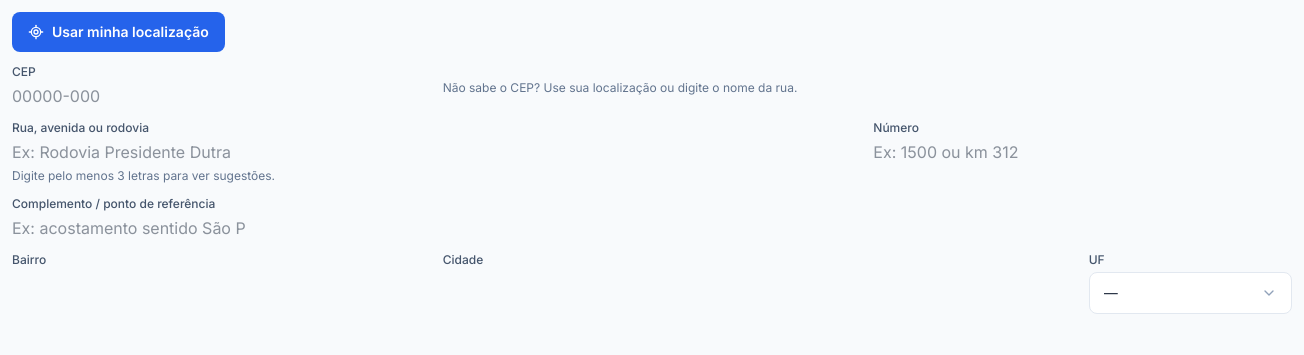
campo de localização › guarda as coordenadas quando não consegue identificar a rua
This screenshot has width=1304, height=355.
Click the button "Usar minha localização" at (118, 32), box [12,12,225,52]
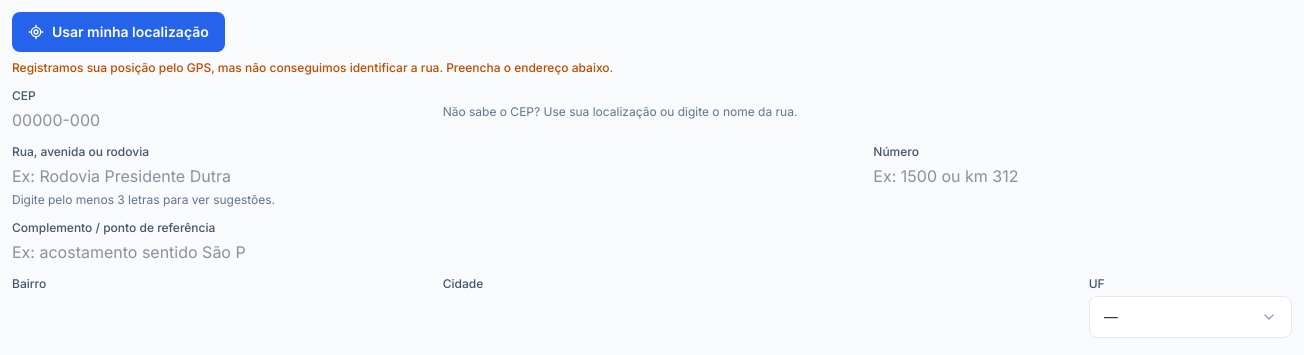
Expected: the message shows "não conseguimos identificar a rua", [12,60,613,75]
